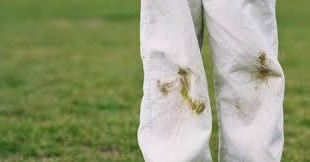earth: (251, 53, 272, 84), (176, 70, 190, 97), (156, 80, 173, 97), (188, 101, 206, 115)
